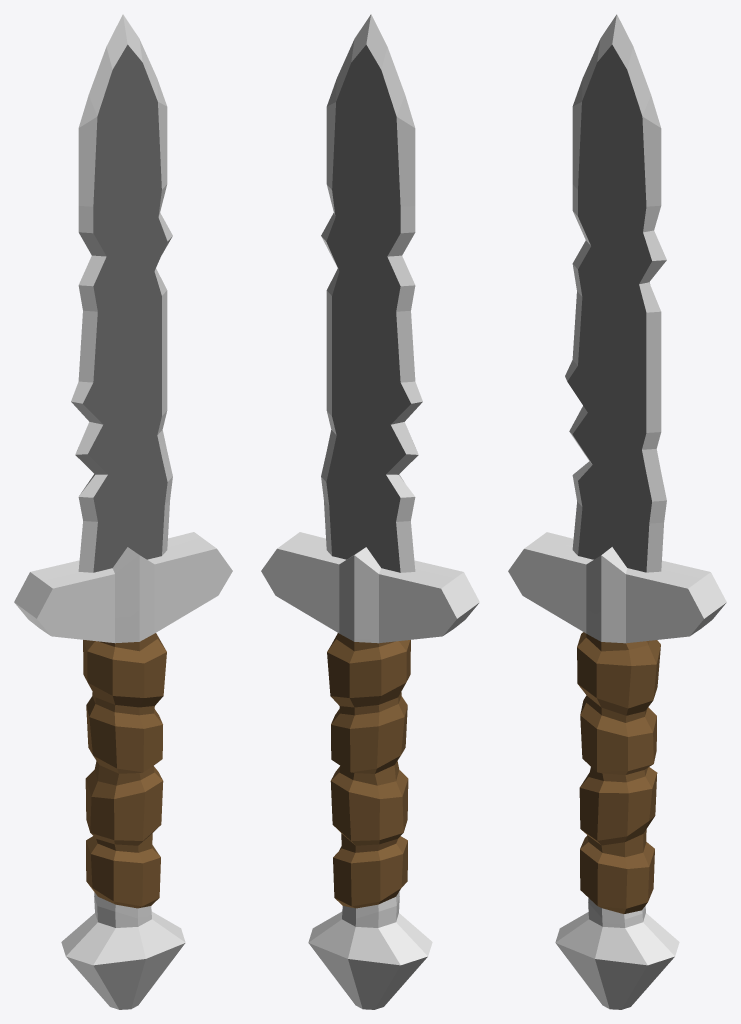
File: item9.fbx
3 renders of one model, left to right at view 1: azimuth 30°, elevation 25°; view 2: azimuth 150°, elevation 25°; view 3: azimuth 330°, elevation 25°, orthographic.
Visible parts, largest first — view 1: Dagger_2; view 2: Dagger_2; view 3: Dagger_2.
Part boxes in pixels (x1=…): Dagger_2: x1=14, y1=14, x2=232, y2=1009; Dagger_2: x1=261, y1=14, x2=479, y2=1009; Dagger_2: x1=508, y1=14, x2=726, y2=1009.
Bounding box in the file's own units: 64.4 × 311 × 25.64.
